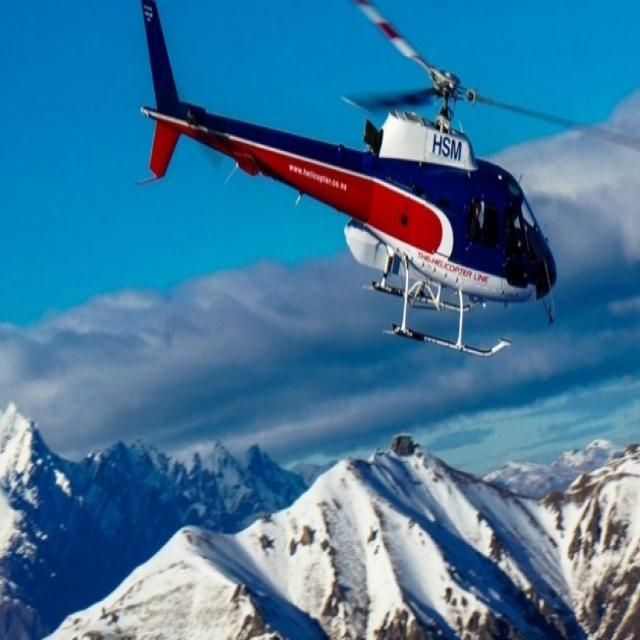helicopter: (135, 1, 614, 385)
